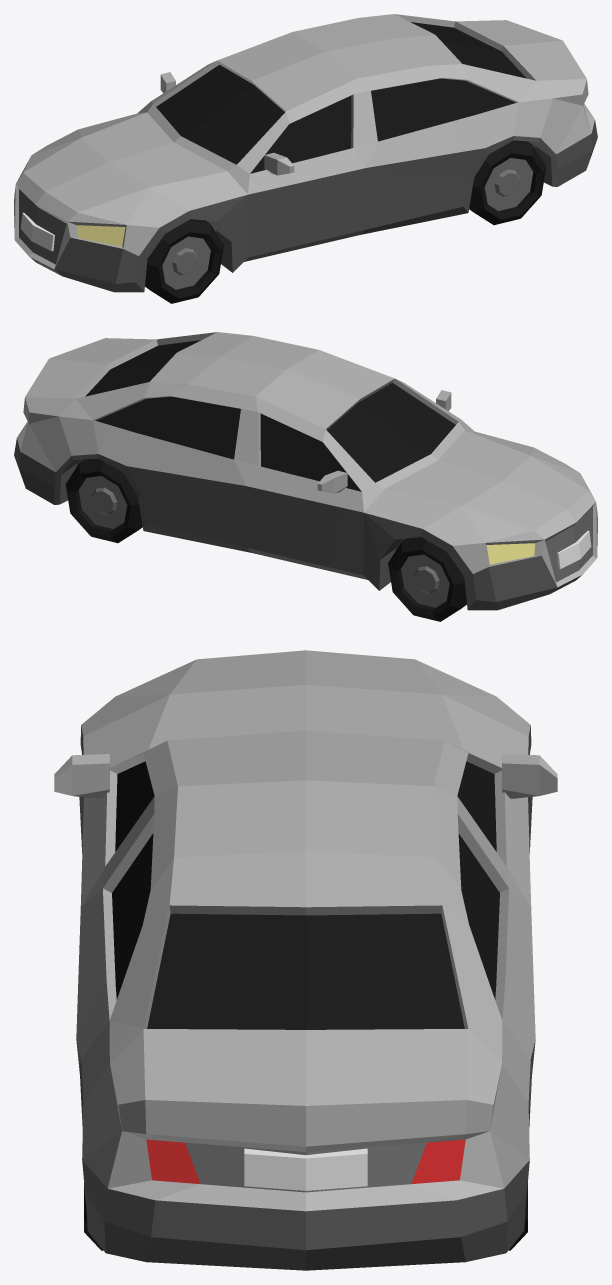
The model's file is vehicle_static_car_2.glb.
3 views of the same model, one above another, from view 1: azimuth 30°, elevation 25°; view 2: azimuth 150°, elevation 25°; view 3: azimuth 270°, elevation 25° (orthographic). The views are drawn at different scales.
Parts seen in each view (by area): view 1: Wheel2-4; view 2: Wheel2-4; view 3: Wheel2-4.
Part boxes in pixels (x1,y1,x2,y2): Wheel2-4: (14,14,597,303); Wheel2-4: (14,332,597,621); Wheel2-4: (54,650,557,1270).
Size of the model in its own units: 5.27 by 1.51 by 2.09.
Materials: 4 (4 with a texture image).
